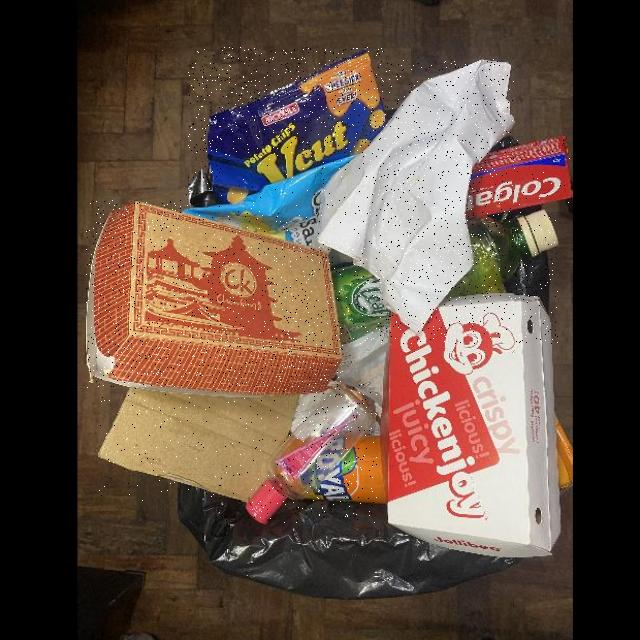glass: (246, 384, 377, 523)
paper: (312, 59, 514, 335), (87, 200, 343, 398), (99, 388, 301, 501), (466, 137, 572, 220)
plastic: (332, 210, 558, 344)
wrapper: (188, 48, 388, 208), (183, 155, 358, 247)
